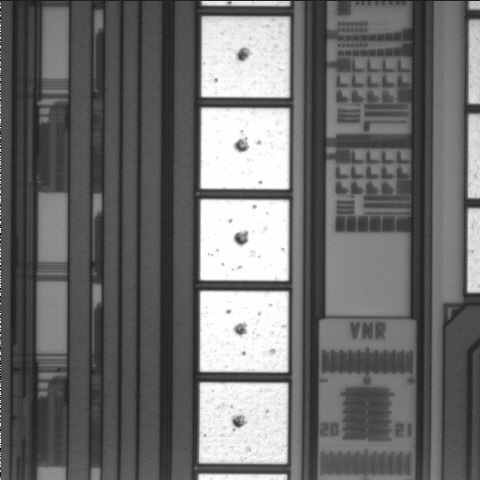pad: (201, 16, 290, 98), (200, 199, 289, 281), (199, 382, 288, 464), (200, 108, 290, 189), (200, 291, 289, 372)
